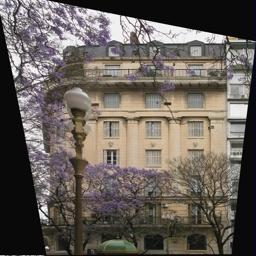building: (47, 37, 229, 256)
